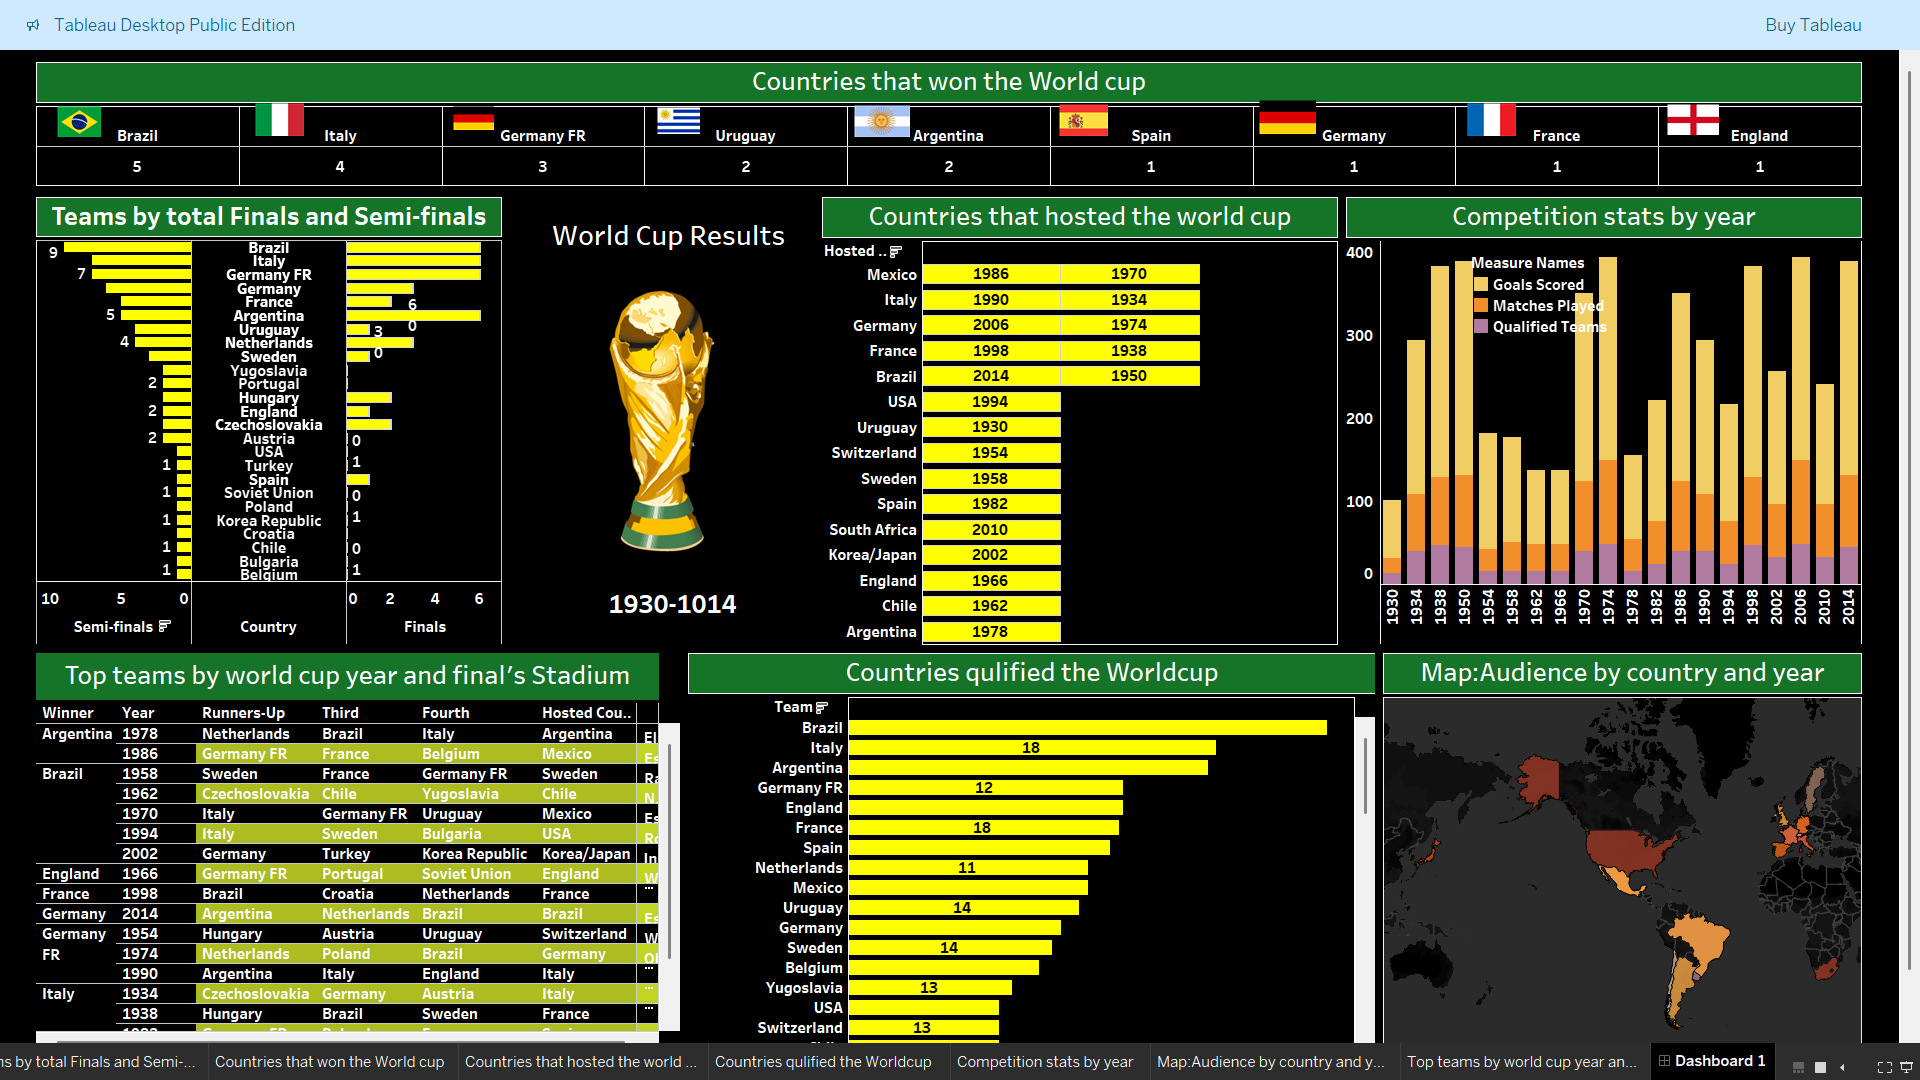

This screenshot's page, from the dashboard's own definition file:
{"tool":"tableau","page":{"name":"Dashboard 1","canvas":[1850,1050],"ordinal":0},"visuals":[{"type":"worksheet","title":"Countries that won the World cup","mark":"Automatic","cols":["Winner"],"box":[8,8,1834,135]},{"type":"image","param":"Image/Germany flag.png","box":[1235,49,57,36]},{"type":"image","param":"Image/Germany flag.png","box":[429,50,41,37]},{"type":"image","param":"Image/Spain flag.jpg","box":[1035,52,49,36]},{"type":"image","param":"Image/Italy flag.png","box":[216,53,80,33]},{"type":"image","param":"Image/France Flag.jpg","box":[1439,53,58,33]},{"type":"image","param":"Image/England flag.png","box":[1643,54,52,32]},{"type":"image","param":"Image/Argentina flag.jfif","box":[829,55,58,32]},{"type":"image","param":"Image/Brazil flag.png","box":[21,56,69,31]},{"type":"image","param":"Image/uruguay flag.png","box":[626,57,57,27]},{"type":"worksheet","title":"Teams by total Finals and Semi-finals","mark":"Automatic","rows":["Team"],"cols":["Calculation_1329124893013016578","Calculation_1329124893014417412","Calculation_1329124893002276864"],"box":[8,143,474,456]},{"type":"image","param":"Image/worl cup pic.png","box":[482,143,312,456]},{"type":"worksheet","title":"Countries that hosted the world cup","mark":"Automatic","rows":["Country"],"cols":["Year"],"box":[794,143,523.9,456]},{"type":"worksheet","title":"Competition stats by year","mark":"Bar","cols":["Year (WorldCupMatches)"],"box":[1317.9,143,524.1,456]},{"type":"text","box":[501,166,287,36]},{"type":"legend","title":"Competition stats by year","param":"[federated.07ez5tx06u283t17eobvh1holyfp].[:Measure Names]","box":[1447,202,141,85]},{"type":"text","box":[577,528,143,49]},{"type":"worksheet","title":"Top teams by world cup year and final's Stadium","mark":"Automatic","rows":["Winner","Year","Runners-Up","Third","Fourth","Country"],"box":[8,599,651.6,443]},{"type":"worksheet","title":"Countries qulified the Worldcup","mark":"Automatic","rows":["Team"],"cols":["Year (World Cup - Tableau format)"],"box":[659.6,599,695.6,443]},{"type":"worksheet","title":"Map:Audience by country and year","mark":"Multipolygon","box":[1355.2,599,486.8,443]}]}

Visuals, with their boxes on the page's 1850x1050 design canvas (x1, y1, x2, y2). These are canvas units, not pixel positions in the 1920x1080 screenshot, which may show the page scaled, cropped or inside an application window:
"Countries that won the World cup" worksheet: <bbox>8, 8, 1842, 143</bbox>
image: <bbox>1235, 49, 1292, 85</bbox>
image: <bbox>429, 50, 470, 87</bbox>
image: <bbox>1035, 52, 1084, 88</bbox>
image: <bbox>216, 53, 296, 86</bbox>
image: <bbox>1439, 53, 1497, 86</bbox>
image: <bbox>1643, 54, 1695, 86</bbox>
image: <bbox>829, 55, 887, 87</bbox>
image: <bbox>21, 56, 90, 87</bbox>
image: <bbox>626, 57, 683, 84</bbox>
"Teams by total Finals and Semi-finals" worksheet: <bbox>8, 143, 482, 599</bbox>
image: <bbox>482, 143, 794, 599</bbox>
"Countries that hosted the world cup" worksheet: <bbox>794, 143, 1318, 599</bbox>
"Competition stats by year" worksheet (Bar marks): <bbox>1318, 143, 1842, 599</bbox>
text: <bbox>501, 166, 788, 202</bbox>
"Competition stats by year" legend: <bbox>1447, 202, 1588, 287</bbox>
text: <bbox>577, 528, 720, 577</bbox>
"Top teams by world cup year and final's Stadium" worksheet: <bbox>8, 599, 660, 1042</bbox>
"Countries qulified the Worldcup" worksheet: <bbox>660, 599, 1355, 1042</bbox>
"Map:Audience by country and year" worksheet (Multipolygon marks): <bbox>1355, 599, 1842, 1042</bbox>
